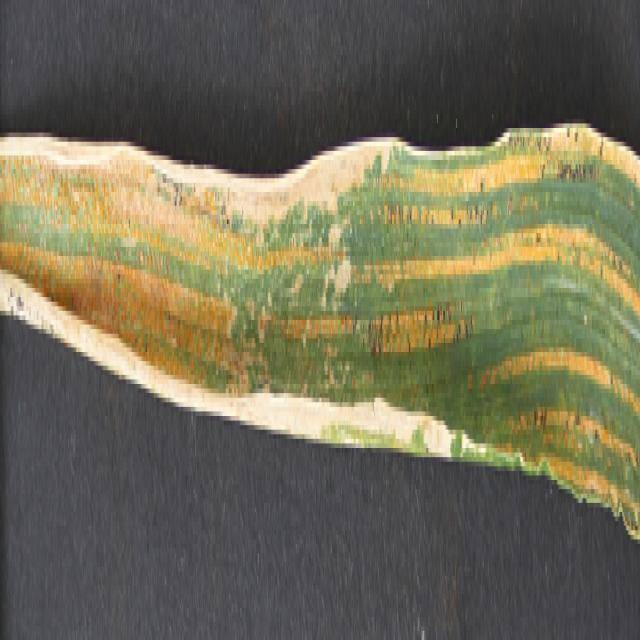leaf rust: (1, 110, 640, 521)
